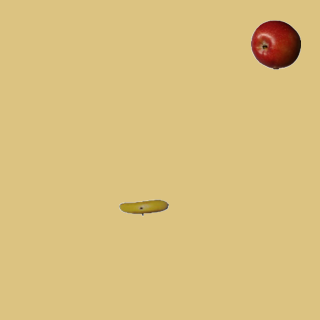Apple Braeburn: (250, 19, 300, 69)
Banana: (118, 182, 168, 232)
